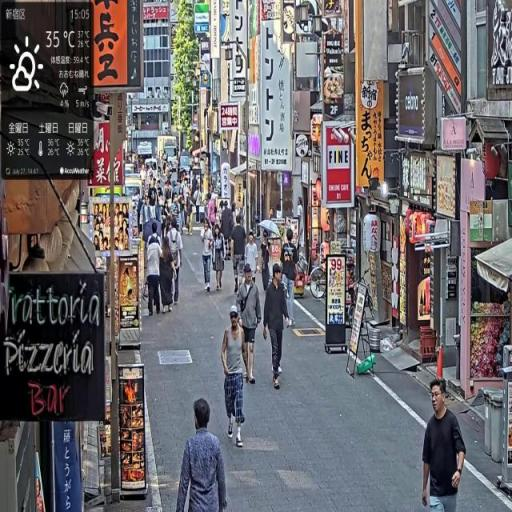person: (422, 378, 468, 512), (176, 399, 229, 512), (221, 306, 250, 451), (263, 263, 292, 391), (236, 262, 264, 385), (145, 224, 165, 320), (281, 228, 299, 330), (167, 217, 184, 307), (231, 217, 248, 294), (201, 221, 215, 293), (213, 225, 227, 292)
